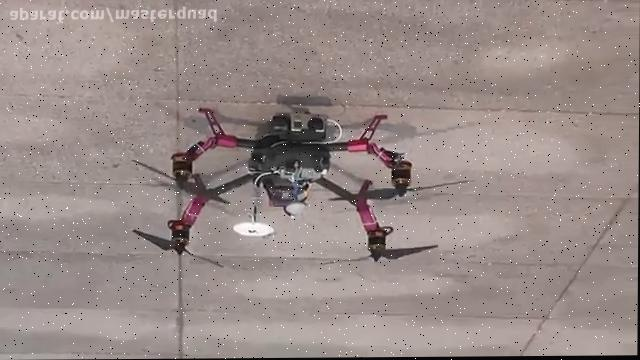drone: (128, 96, 477, 270)
